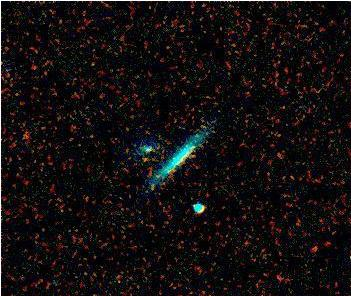star: (129, 144, 159, 174)
